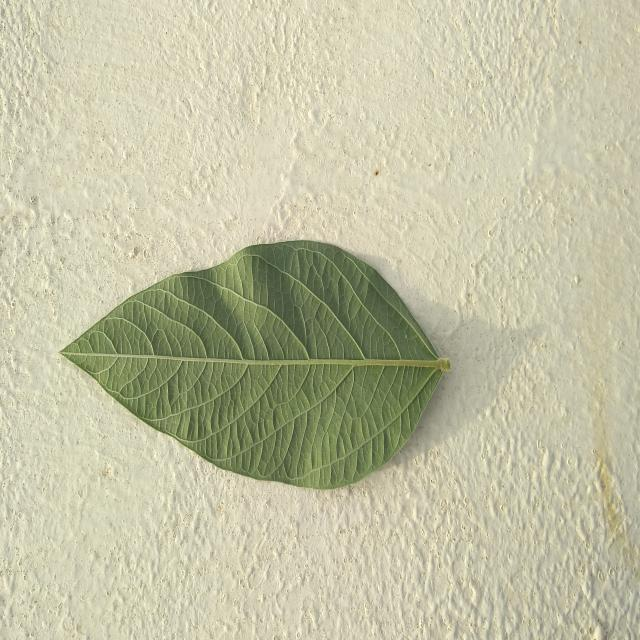.: (61, 240, 450, 489)
pea: (62, 240, 449, 489)
